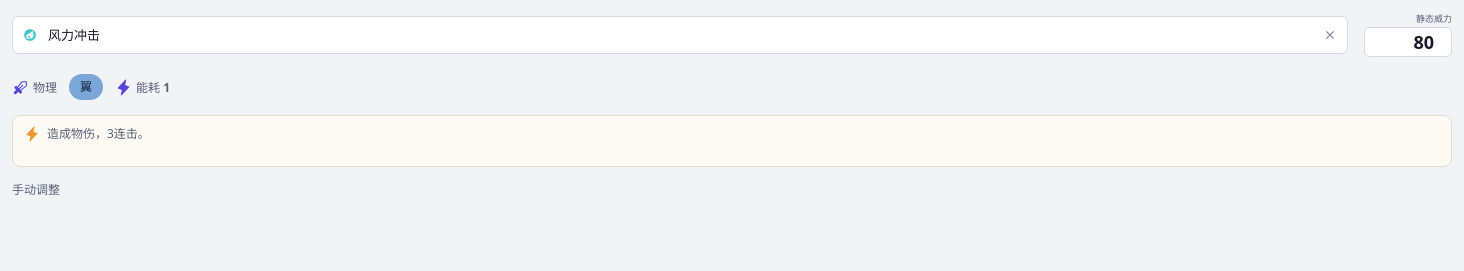
Test case: 手动连击加减和恢复默认沿用现有回调，默认保留自动增益
Click the heading "手动调整" at {"x": 36, "y": 190}, box x1=12 y1=181 x2=60 y2=198
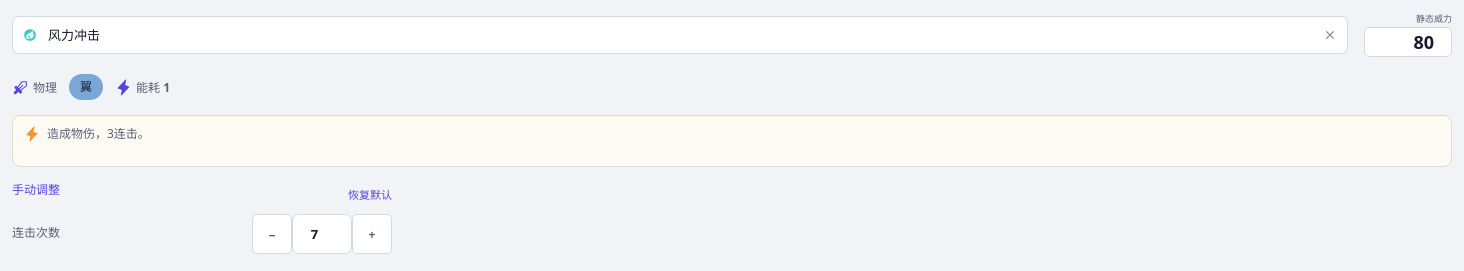
Click the button named "减少连击次数" at {"x": 272, "y": 234}, box x1=252 y1=214 x2=292 y2=254
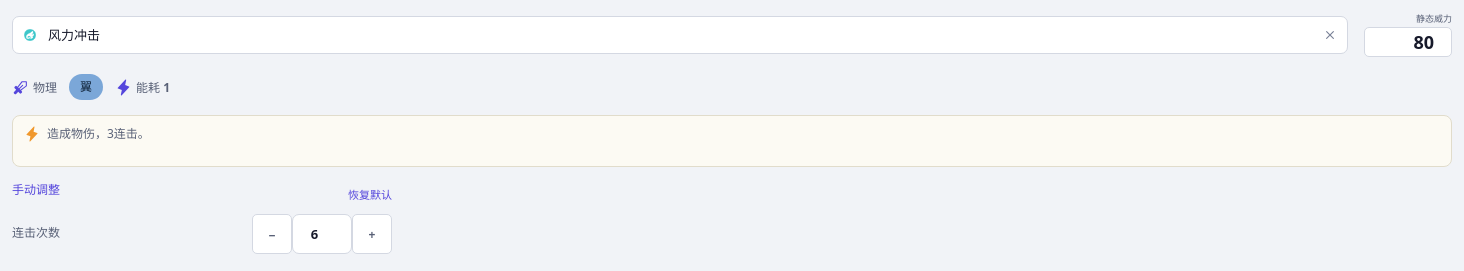
Click the button named "增加连击次数" at {"x": 372, "y": 234}, box x1=352 y1=214 x2=392 y2=254
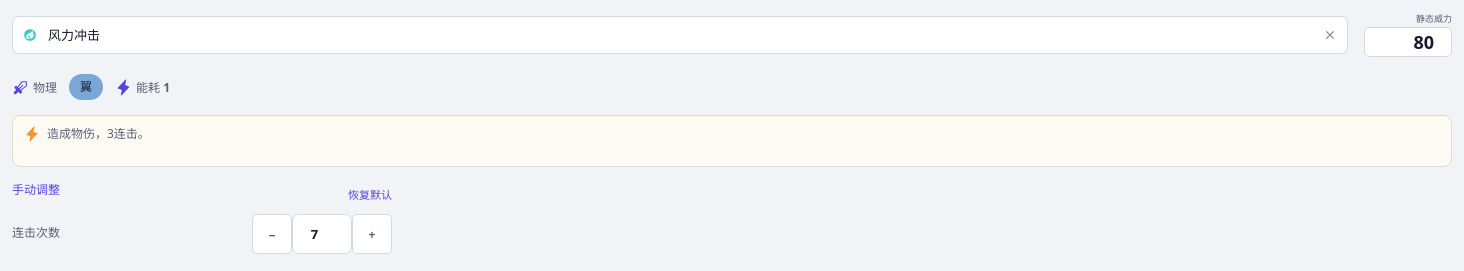
Click the button "恢复默认" at {"x": 370, "y": 194}, box x1=348 y1=174 x2=392 y2=214
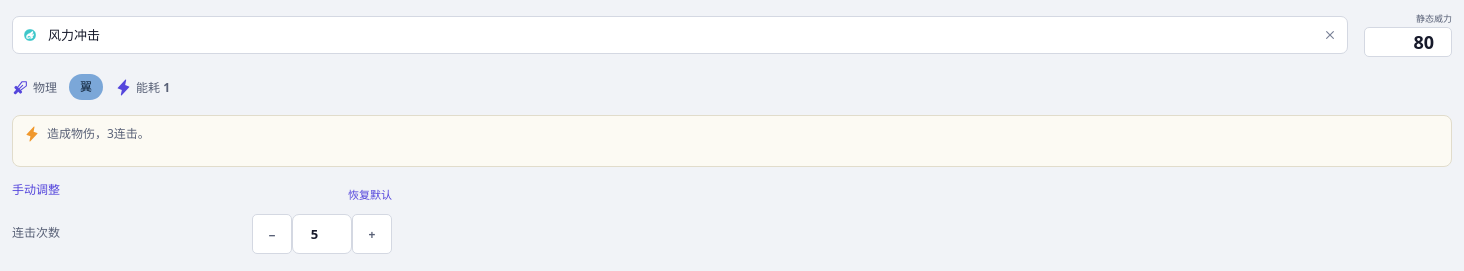
Check: the number field named "连击次数" holds "5", box x1=292 y1=214 x2=352 y2=254
